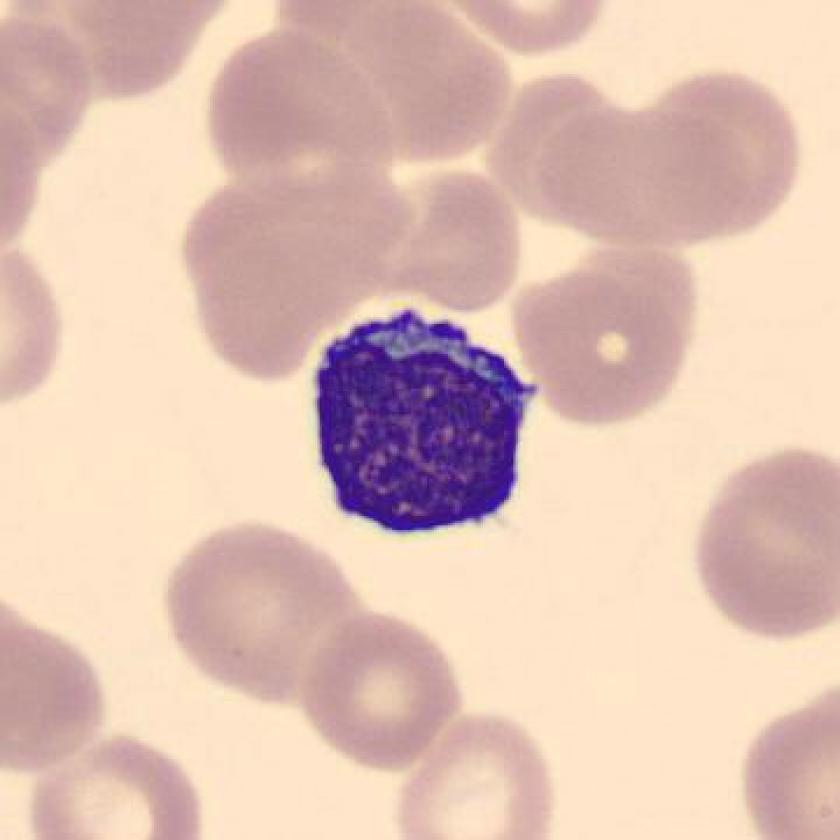lymphocyte: (293, 295, 559, 552)
